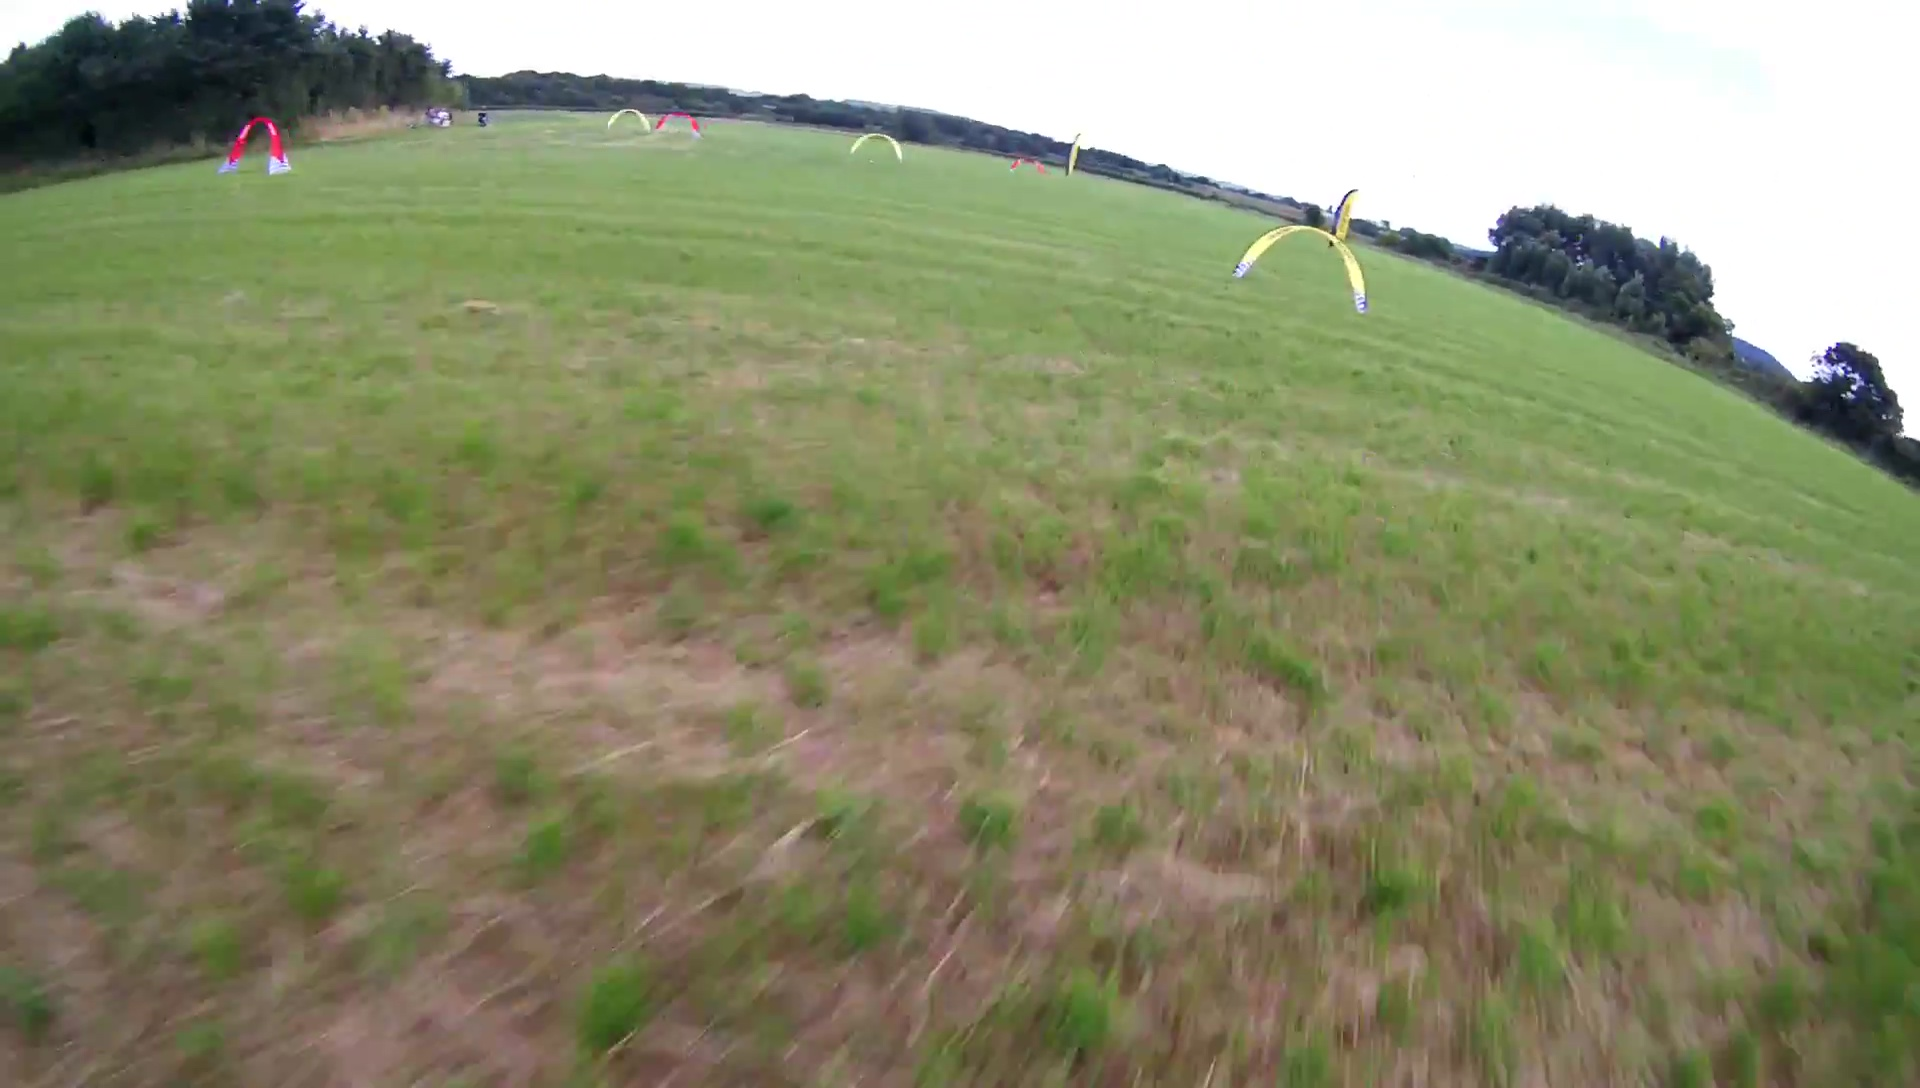gate: (1230, 222, 1371, 314), (219, 113, 291, 177), (847, 131, 907, 162)
